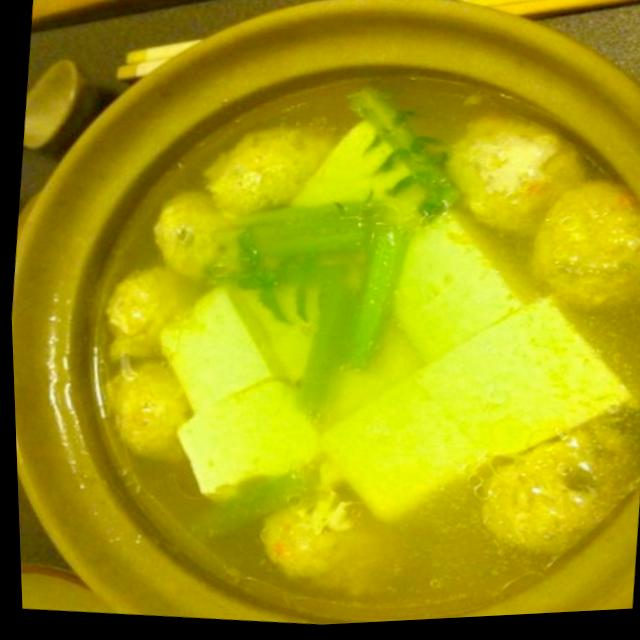豆腐料理: (12, 1, 640, 640)
